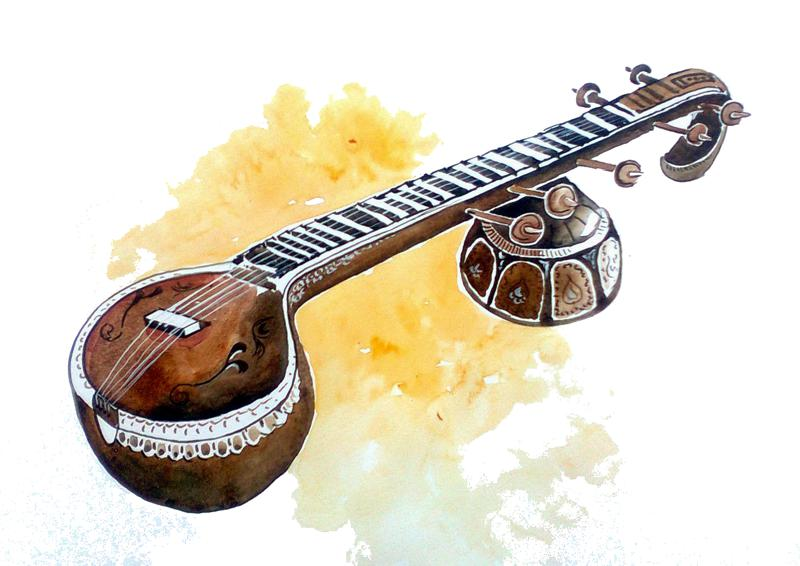Veena: (49, 70, 728, 530)
